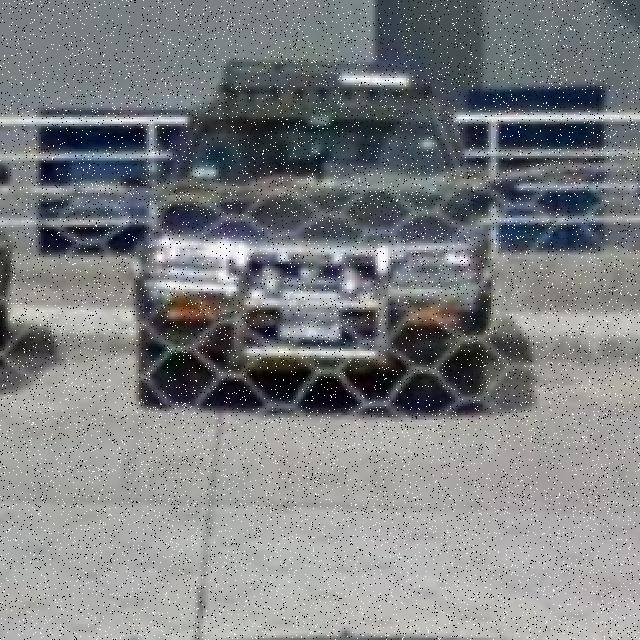cars: (135, 54, 505, 439)
